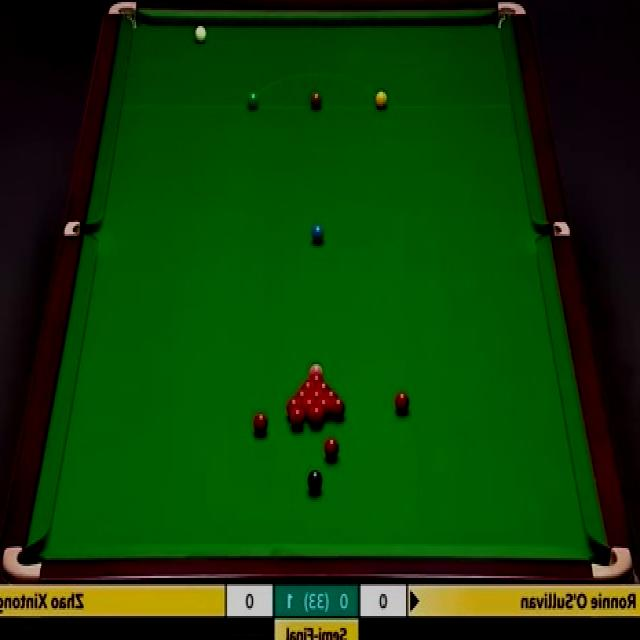pocket: (3, 542, 43, 583), (589, 542, 634, 578), (495, 0, 529, 34), (108, 0, 141, 32), (64, 218, 100, 237), (537, 223, 570, 239)
